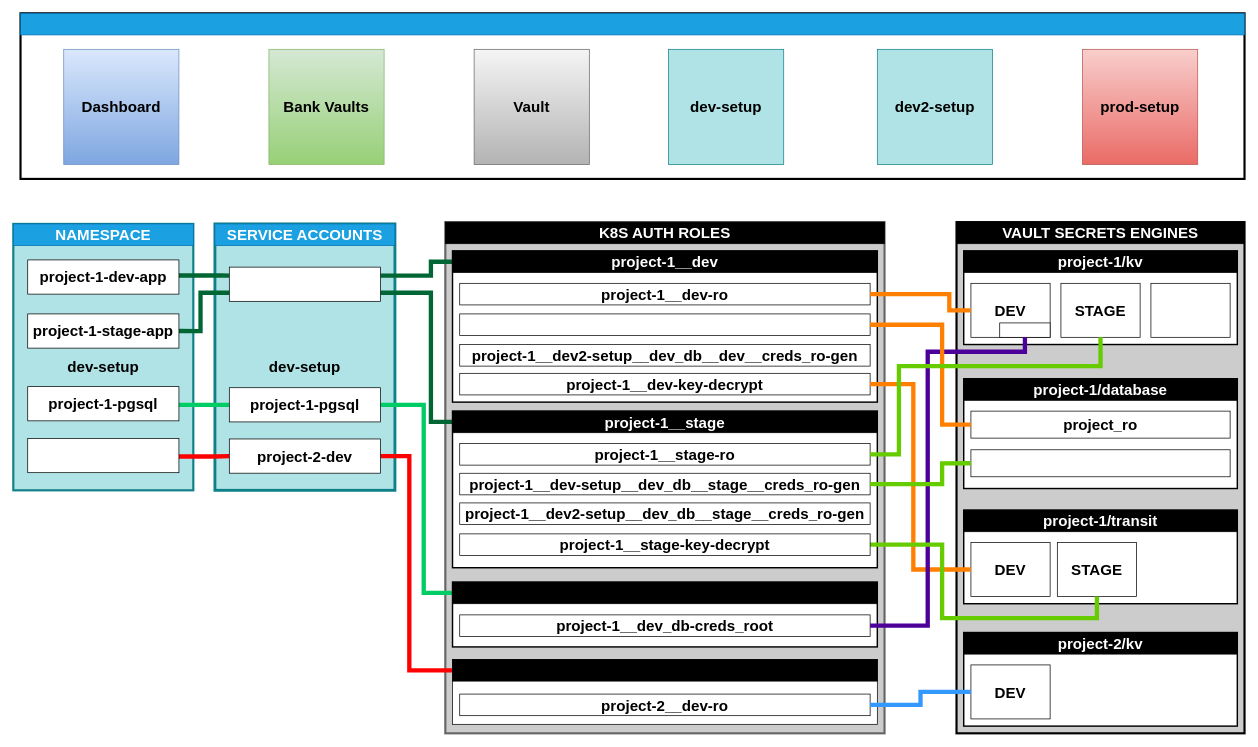
The diagram is 1258 pixels wide and 747 high, and some of its shapes have lost their labels. Here are the shapes that lost their labels. From the top down, the box of each, then its label:
(20, 13, 1245, 35): NAMESPACES
(229, 266, 381, 301): default
(459, 313, 870, 336): project-1__dev-setup__dev_db__dev__creds_ro-gen
(999, 322, 1050, 337): DB CREDS
(1150, 283, 1230, 337): PROD
(27, 438, 179, 473): project-2-dev-app
(970, 449, 1230, 477): stage_project_ro
(452, 581, 877, 604): project-1__pgsql
(452, 659, 877, 681): project-2__dev
